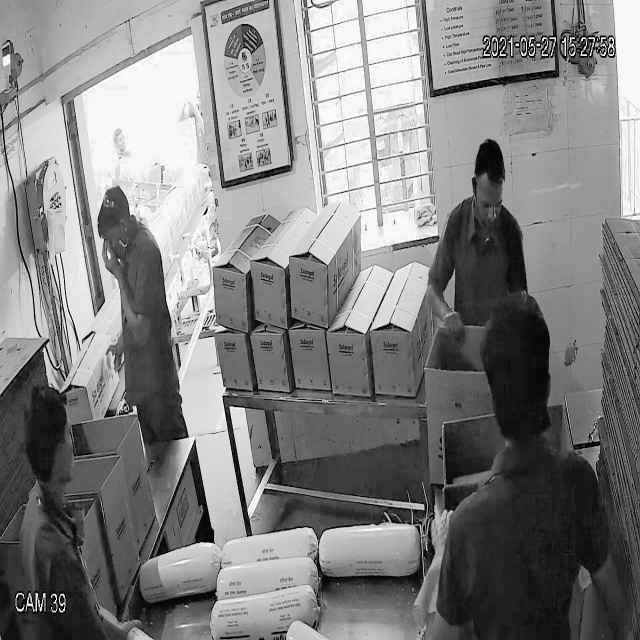Sin_gafas: (467, 187, 512, 220)
